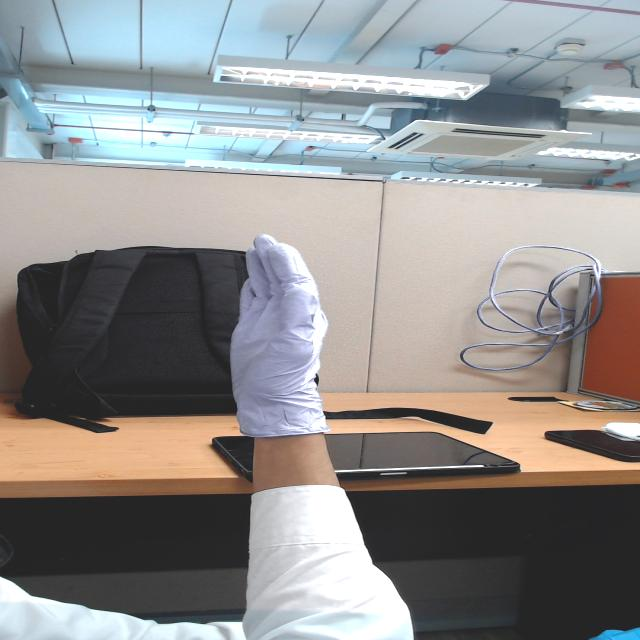glove: (218, 227, 335, 387)
